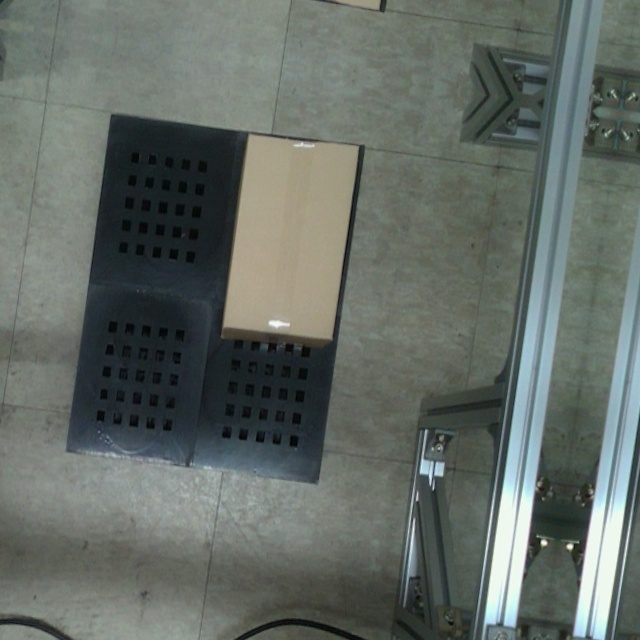box: (219, 132, 363, 343)
pallet: (59, 109, 371, 491)
